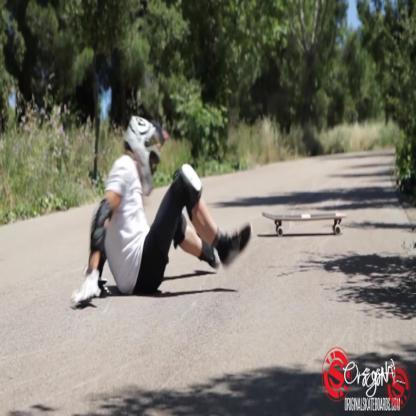Fall_Down: (64, 116, 253, 312)
